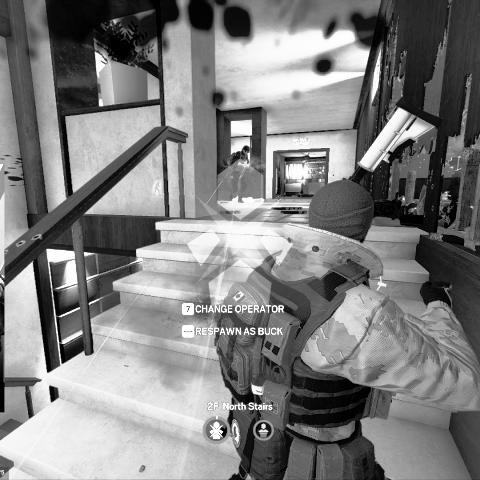Character: (210, 178, 480, 480), (225, 144, 252, 204)
Head: (307, 179, 377, 248), (242, 145, 250, 155)
